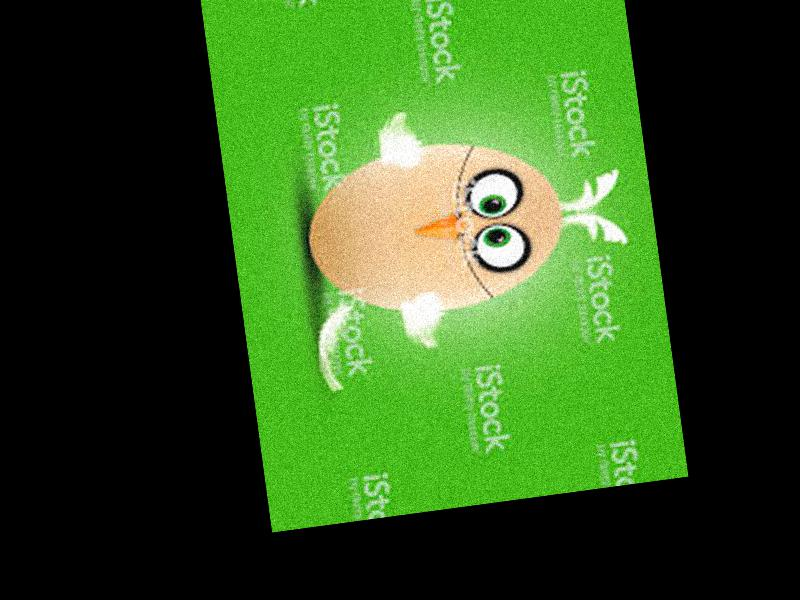Eggs: (296, 131, 573, 327)
